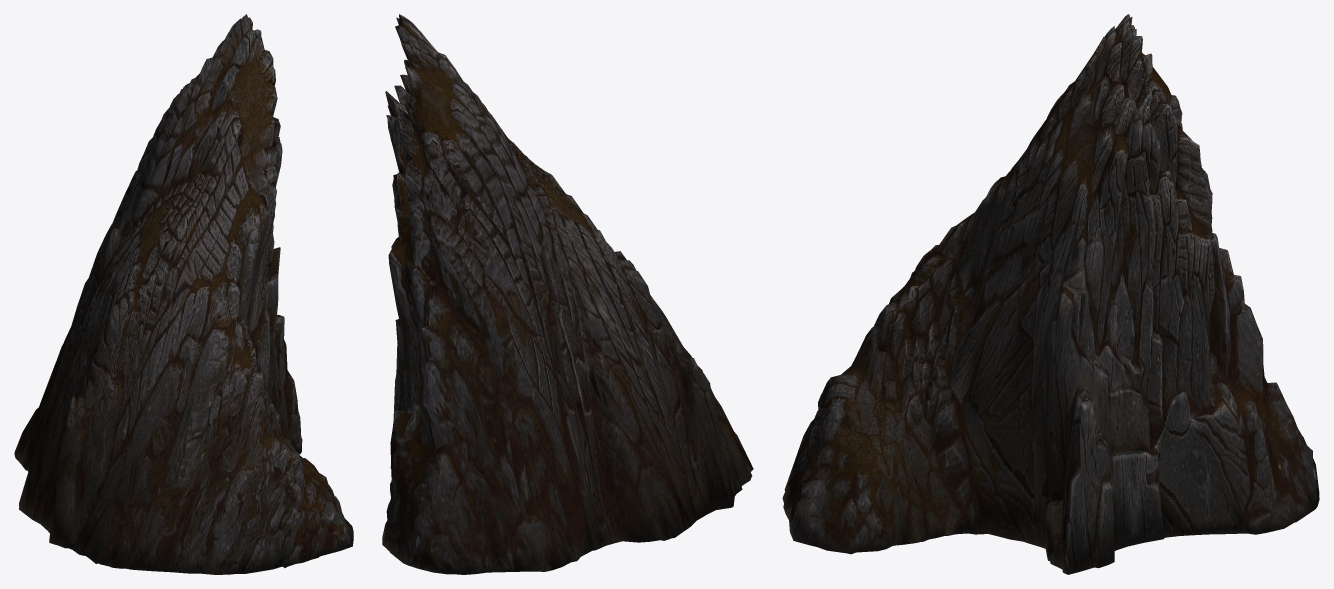
File: Rock_03_Leaning_Crag_LOD1.fbx
3 views of the same model, side by side, from view 1: azimuth 30°, elevation 25°; view 2: azimuth 150°, elevation 25°; view 3: azimuth 270°, elevation 25° (orthographic). The views are drawn at different scales.
Parts seen in each view (by area): view 1: Rock_03_Leaning_Crag_LOD1; view 2: Rock_03_Leaning_Crag_LOD1; view 3: Rock_03_Leaning_Crag_LOD1.
Part boxes in pixels (x1,y1,x2,y2): Rock_03_Leaning_Crag_LOD1: (14, 14, 353, 574); Rock_03_Leaning_Crag_LOD1: (382, 14, 753, 574); Rock_03_Leaning_Crag_LOD1: (782, 14, 1319, 574).
Size of the model in its own units: 51.93 by 75.88 by 67.67.
